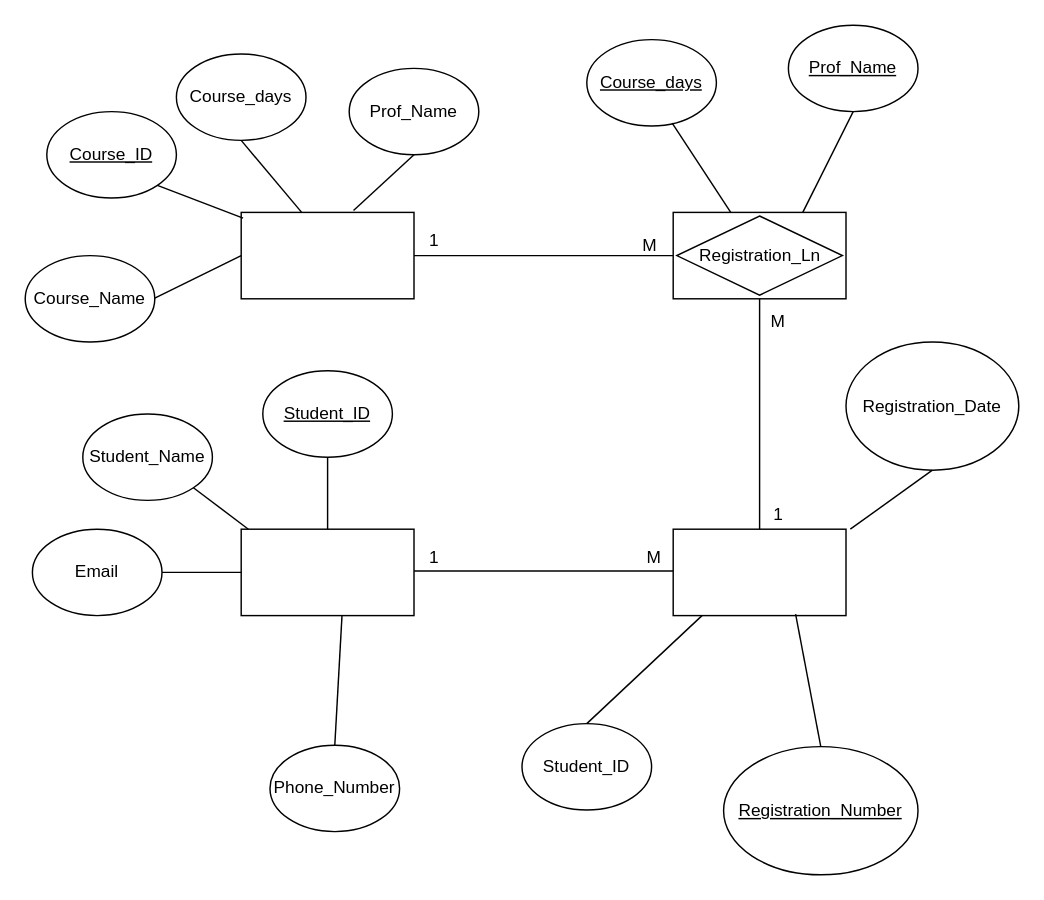
This 1044x900 diagram has some shape labels left out. Each missing label, with the box of its shape:
Course: (240, 211, 414, 299)
Registration: (672, 528, 846, 616)
Students: (240, 528, 414, 616)
